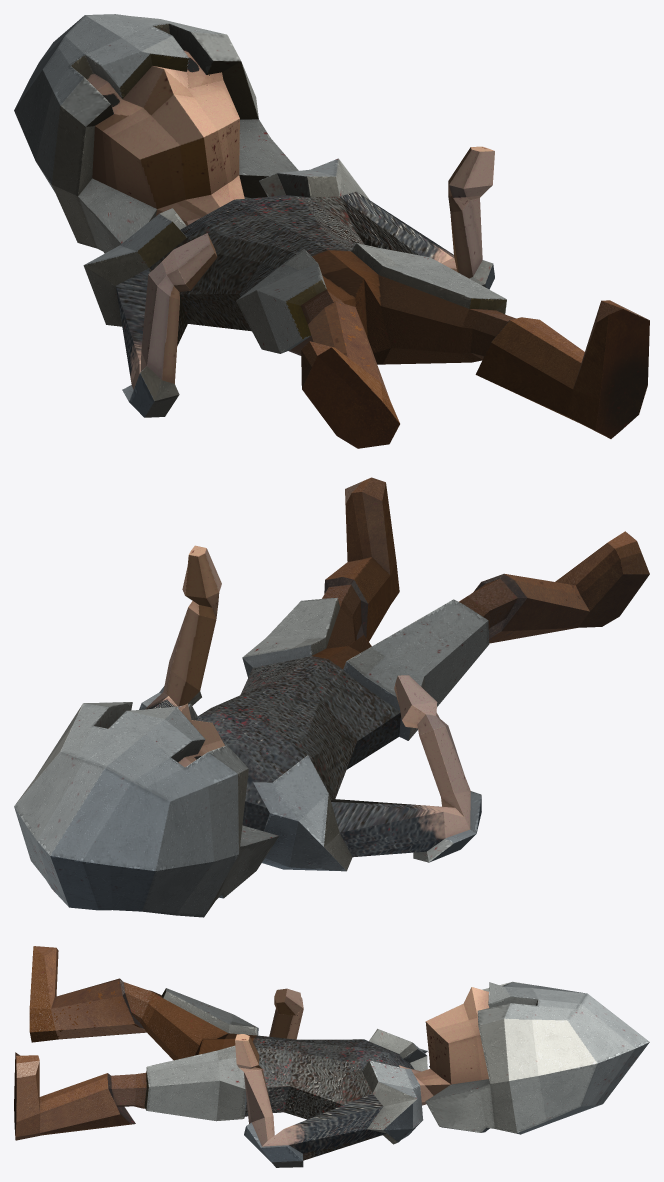
Rendered from Walk_Soldier_25.obj.
The picture shows the model from 3 angles, top to bottom: view 1: azimuth 30°, elevation 25°; view 2: azimuth 150°, elevation 25°; view 3: azimuth 270°, elevation 25°; orthographic projection. The views are drawn at different scales.
Parts seen in each view (by area): view 1: Soldado_LowPolySTD; view 2: Soldado_LowPolySTD; view 3: Soldado_LowPolySTD.
Part boxes in pixels (x1=…): Soldado_LowPolySTD: x1=14, y1=14, x2=649, y2=448; Soldado_LowPolySTD: x1=14, y1=477, x2=649, y2=917; Soldado_LowPolySTD: x1=14, y1=946, x2=649, y2=1167.
Size of the model in its own units: 0.7217 by 0.4342 by 1.6.
